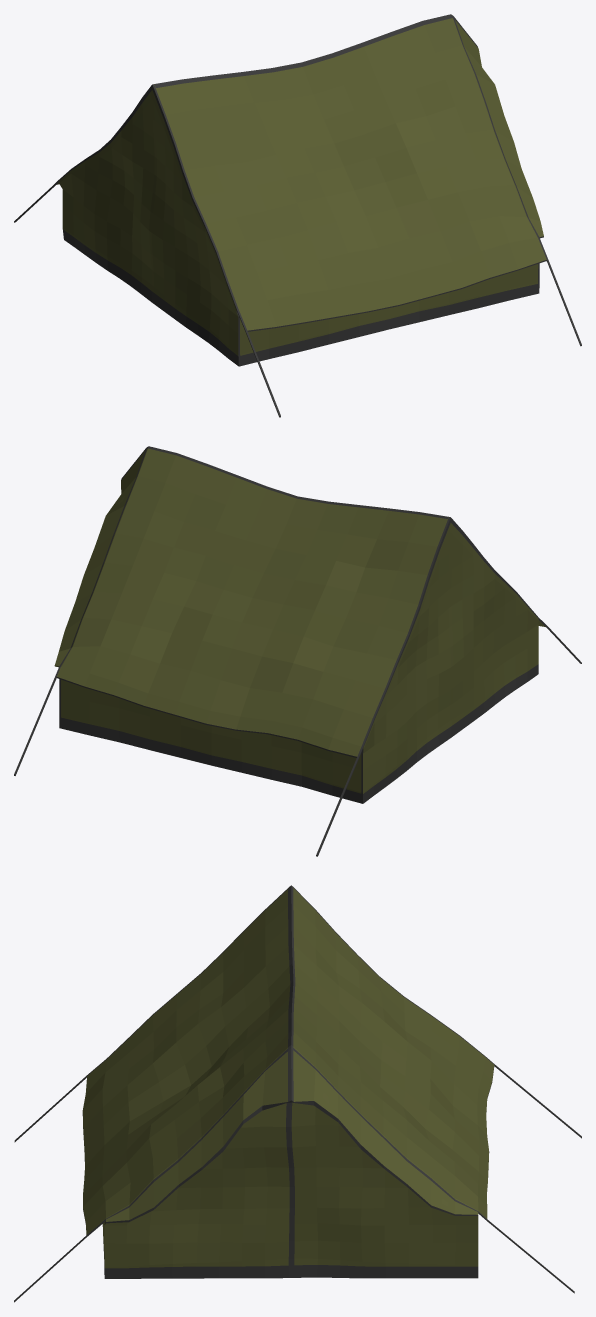
Rendered from tent5.fbx.
3 views of the same model, one above another, from view 1: azimuth 30°, elevation 25°; view 2: azimuth 150°, elevation 25°; view 3: azimuth 270°, elevation 25° (orthographic). The views are drawn at different scales.
Parts seen in each view (by area): view 1: Cube; view 2: Cube; view 3: Cube.
Boxes of the visible parts, x1,y1,x2,y2 form: Cube: [14, 14, 581, 417]; Cube: [14, 446, 581, 856]; Cube: [14, 885, 581, 1302].
Size of the model in its own units: 219 by 153 by 304.
